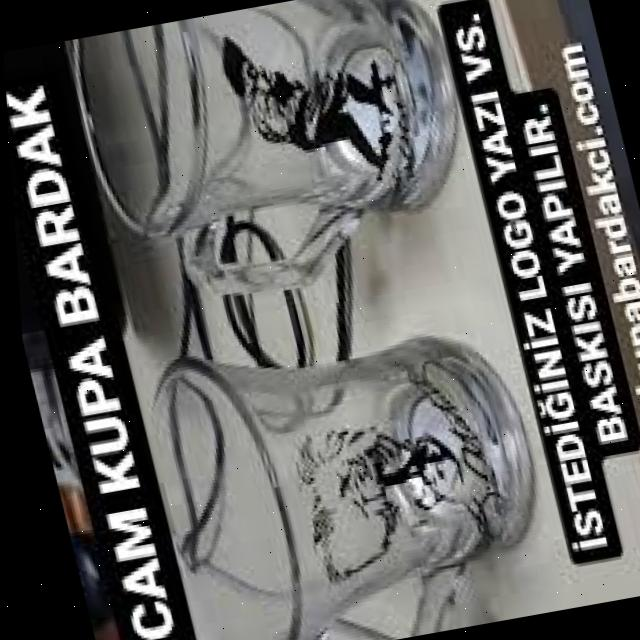Dry: (127, 300, 558, 640), (54, 0, 492, 329)
